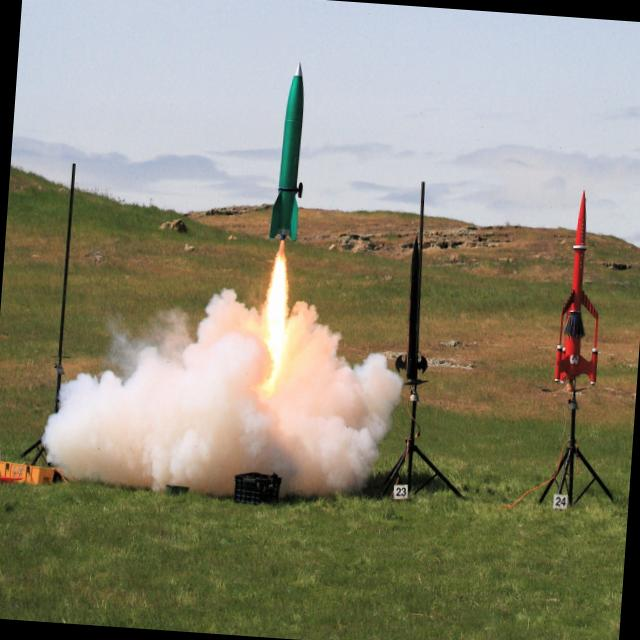rocket: (250, 49, 316, 413)
